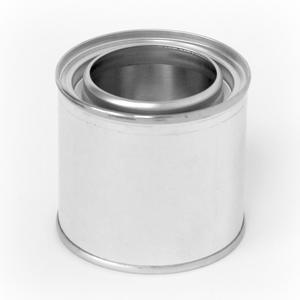metal: (53, 28, 253, 277)
